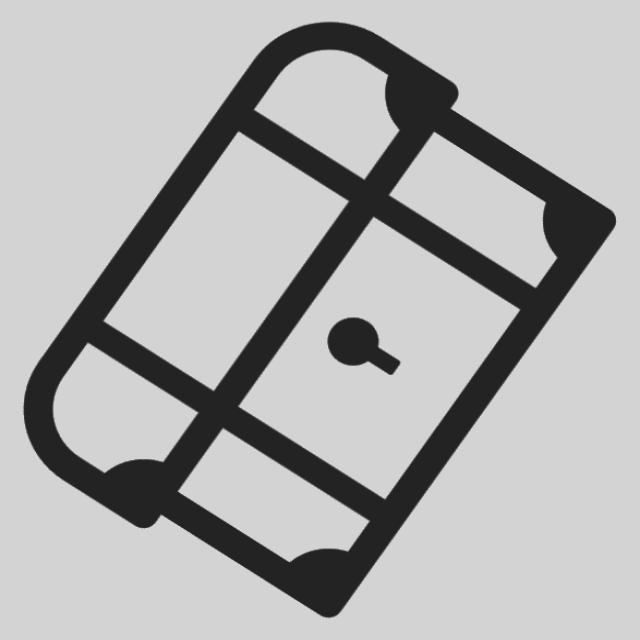treasure_box: (11, 14, 629, 629)
